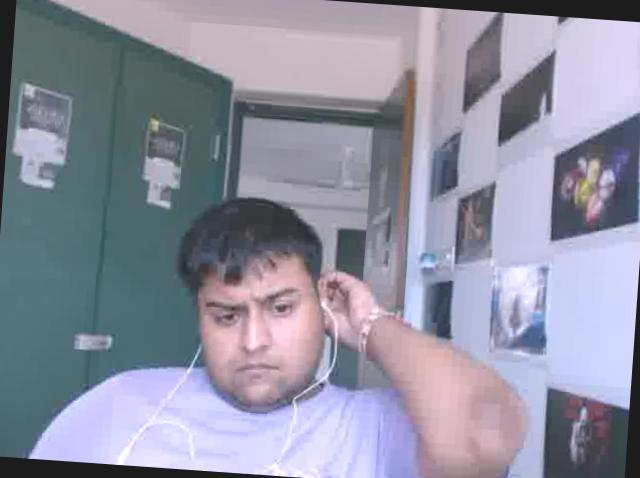bosan: (193, 250, 326, 404)
